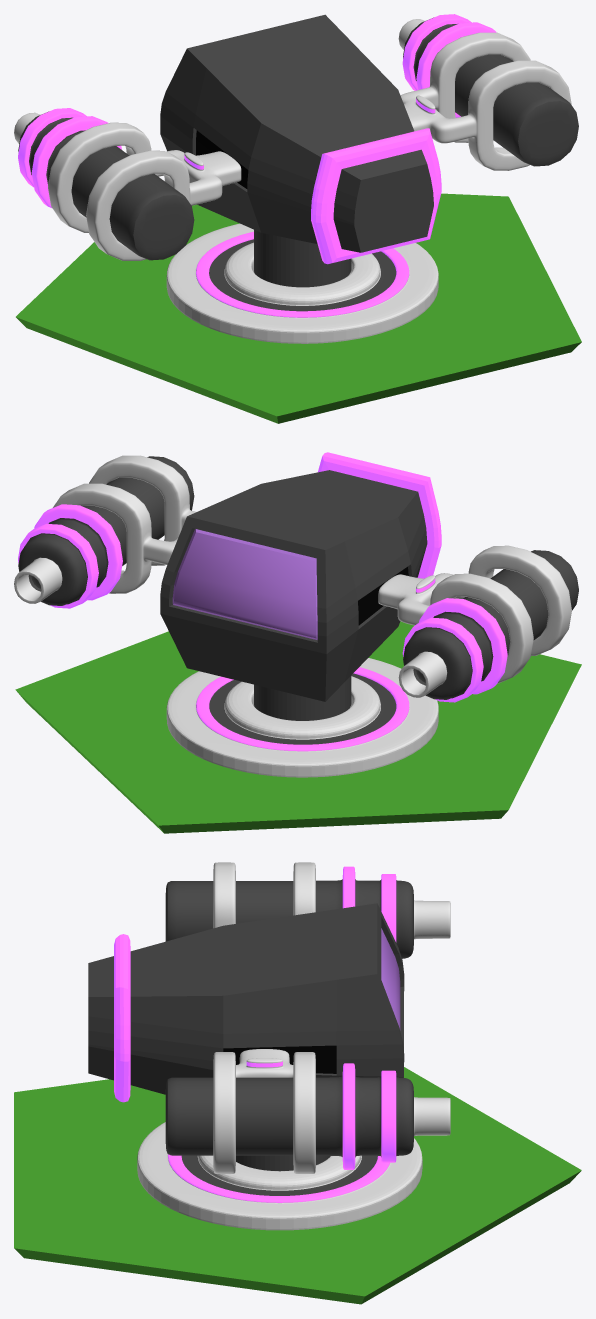
Rendered from Small_turret_4.fbx.
3 views of the same model, one above another, from view 1: azimuth 30°, elevation 25°; view 2: azimuth 150°, elevation 25°; view 3: azimuth 270°, elevation 25° (orthographic). The views are drawn at different scales.
Parts seen in each view (by area): view 1: DodecagonVideTuile.001, Cube.004, Cube.001, Cylinder.001, Cylinder.004; view 2: DodecagonVideTuile.001, Cube.004, Cube.001, Cylinder.001, Cylinder.004; view 3: DodecagonVideTuile.001, Cube.004, Cube.001, Cylinder.001, Cylinder.004.
Boxes of the visible parts, left/top/right/bottom form: DodecagonVideTuile.001: left=16, top=193, right=581, bottom=423; Cube.004: left=160, top=14, right=441, bottom=264; Cube.001: left=14, top=14, right=578, bottom=260; Cylinder.001: left=166, top=223, right=438, bottom=343; Cylinder.004: left=229, top=230, right=351, bottom=287; DodecagonVideTuile.001: left=15, top=621, right=581, bottom=833; Cube.004: left=160, top=452, right=441, bottom=701; Cube.001: left=14, top=455, right=578, bottom=702; Cylinder.001: left=166, top=658, right=438, bottom=777; Cylinder.004: left=254, top=675, right=351, bottom=720; DodecagonVideTuile.001: left=14, top=1067, right=581, bottom=1304; Cube.004: left=88, top=903, right=404, bottom=1102; Cube.001: left=165, top=862, right=450, bottom=1173; Cylinder.001: left=137, top=1122, right=422, bottom=1230; Cylinder.004: left=236, top=1155, right=330, bottom=1171.
Bounding box in the file's own units: 111 × 50.01 × 105.
